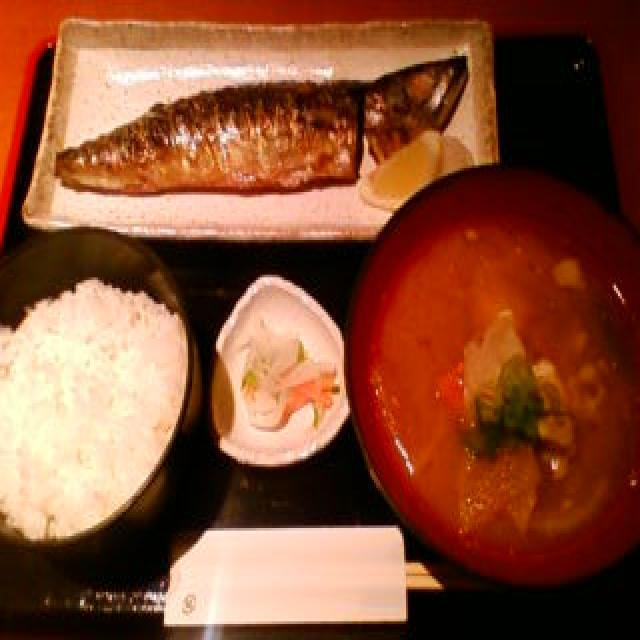Rice: (0, 287, 186, 532)
